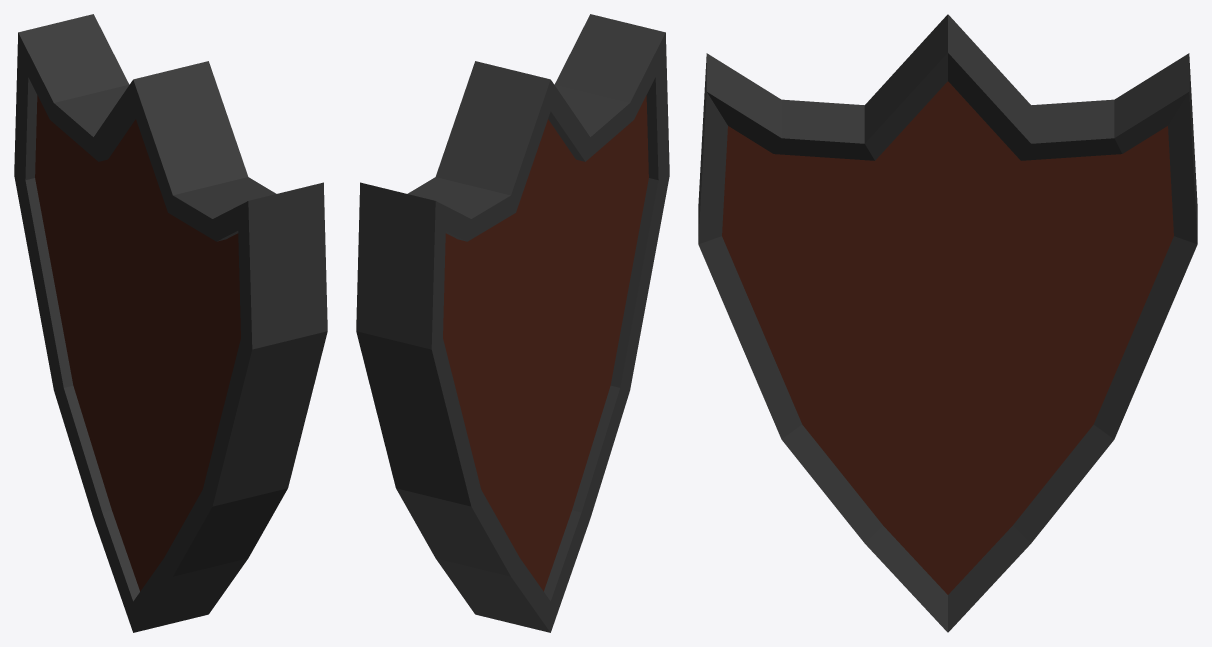
Rendered from ShieldPickUp.fbx.
The picture shows the model from 3 angles, left to right: view 1: azimuth 30°, elevation 25°; view 2: azimuth 150°, elevation 25°; view 3: azimuth 270°, elevation 25°; orthographic projection. The views are drawn at different scales.
Parts seen in each view (by area): view 1: Cube; view 2: Cube; view 3: Cube.
Boxes of the visible parts, x1,y1,x2,y2 form: Cube: [14, 14, 327, 632]; Cube: [356, 14, 669, 632]; Cube: [698, 14, 1197, 632].
Bounding box in the file's own units: 36.62 × 257 × 200.
